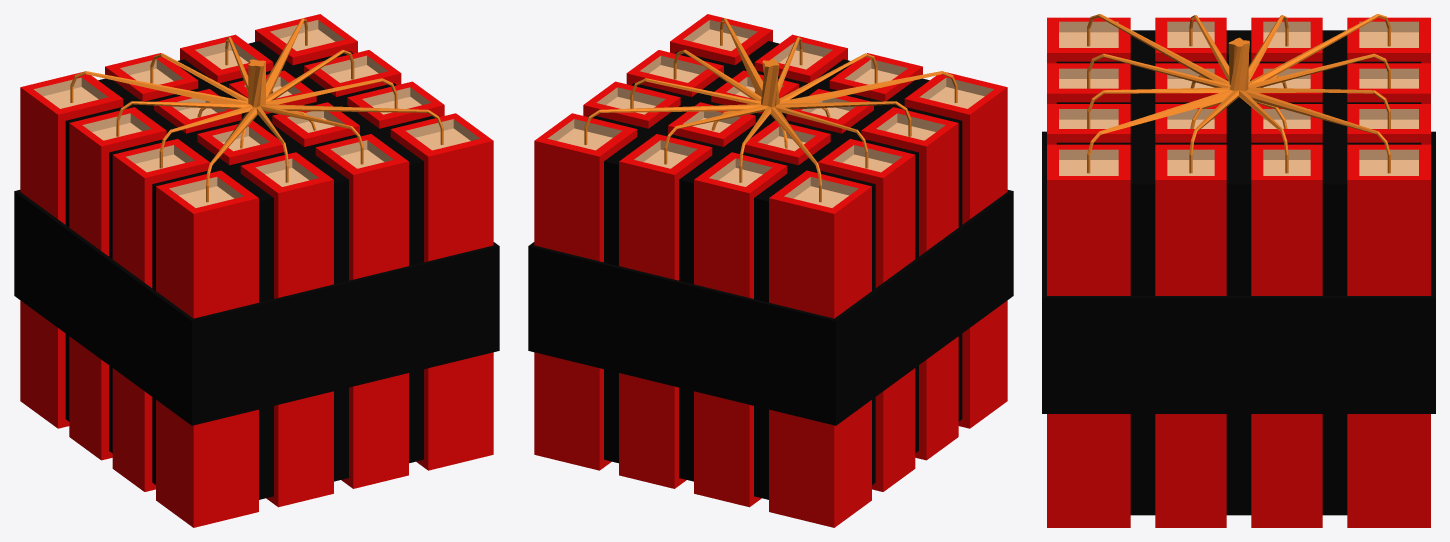
File: TNT.fbx
3 views of the same model, side by side, from view 1: azimuth 30°, elevation 25°; view 2: azimuth 150°, elevation 25°; view 3: azimuth 270°, elevation 25° (orthographic). The views are drawn at different scales.
Parts seen in each view (by area): view 1: TNT; view 2: TNT; view 3: TNT.
Part boxes in pixels (x1,y1,x2,y2): TNT: [14, 14, 499, 527]; TNT: [528, 14, 1013, 527]; TNT: [1042, 14, 1435, 527].
Bounding box in the file's own units: 1.03 × 1.16 × 1.03.
